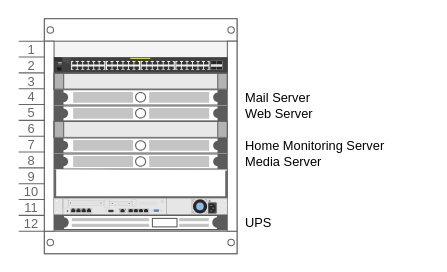
Image size: 447x272. Some labels were removed from this diagram. Each missing label, with the box of its shape:
Media + Backup Network Drives: (53, 169, 227, 198)
Security / Firewall: (53, 197, 227, 215)
Switch: (53, 56, 227, 73)
